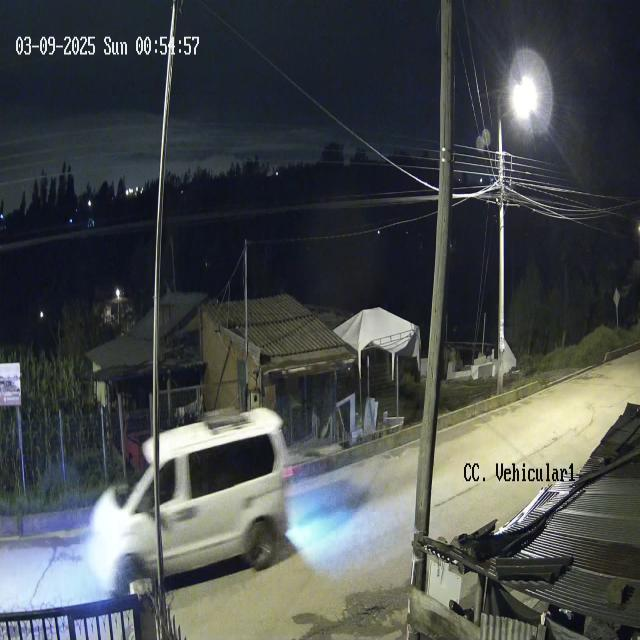BUS: (86, 403, 293, 609)
